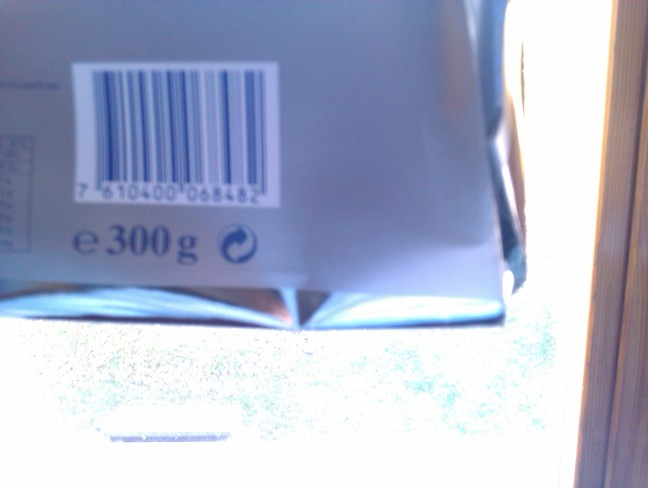detection: (71, 64, 280, 206)
